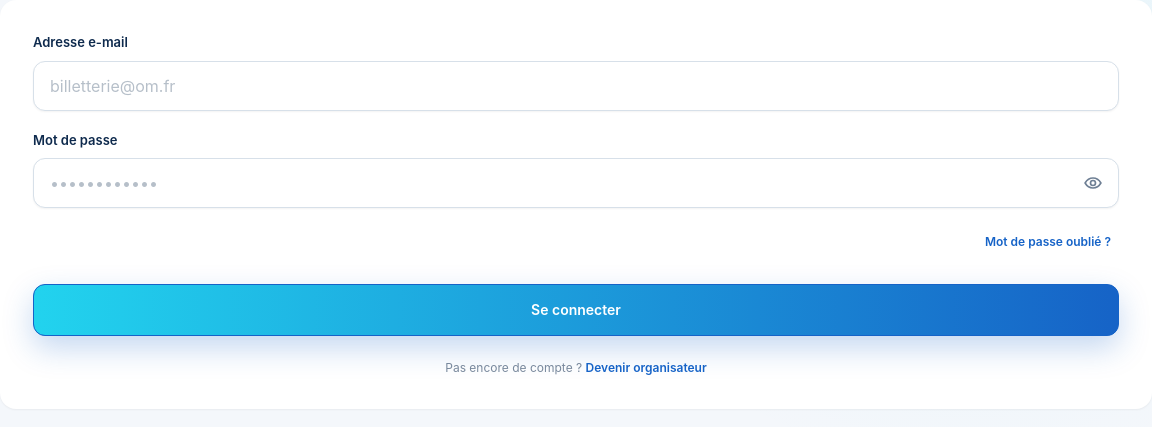
Test: LoginForm › affiche et masque le mot de passe sans perdre sa valeur
Type "Secret-FANID-2026" into the password field labelled "Mot de passe" at (576, 183), box 33,158 -> 1119,208
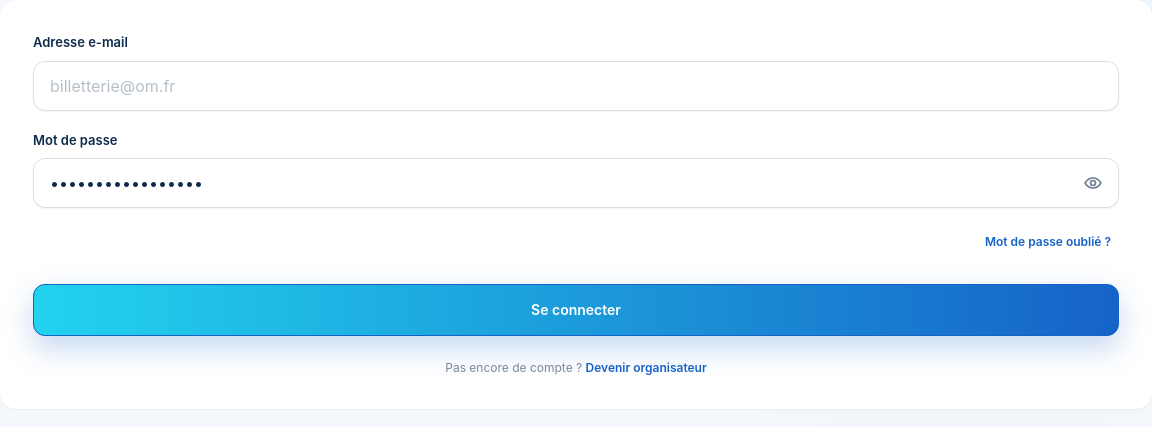
Click the button named "Afficher le mot de passe" at (1093, 183), box 1071,161 -> 1115,205
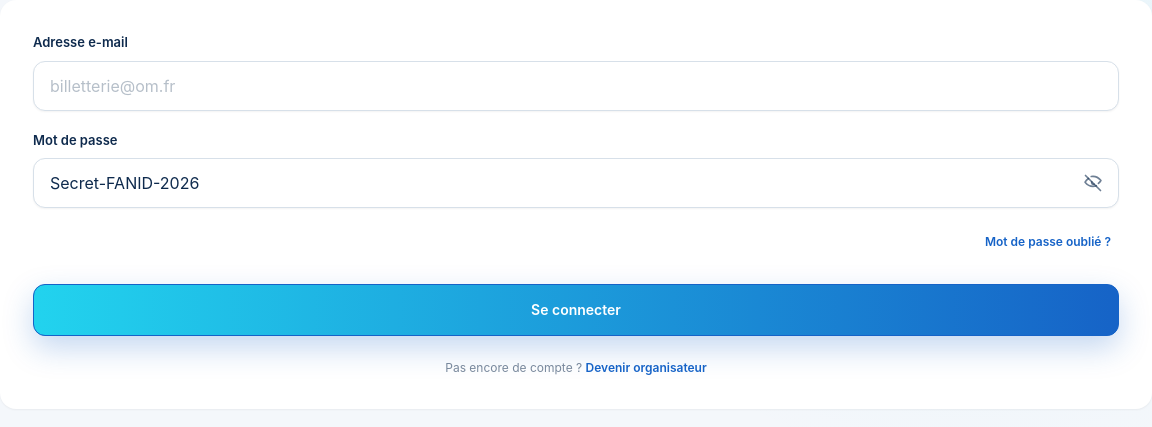
Now the field labelled "Mot de passe" shows its text, box 33,158 -> 1119,208
Click the button named "Masquer le mot de passe" at (1093, 183), box 1071,161 -> 1115,205
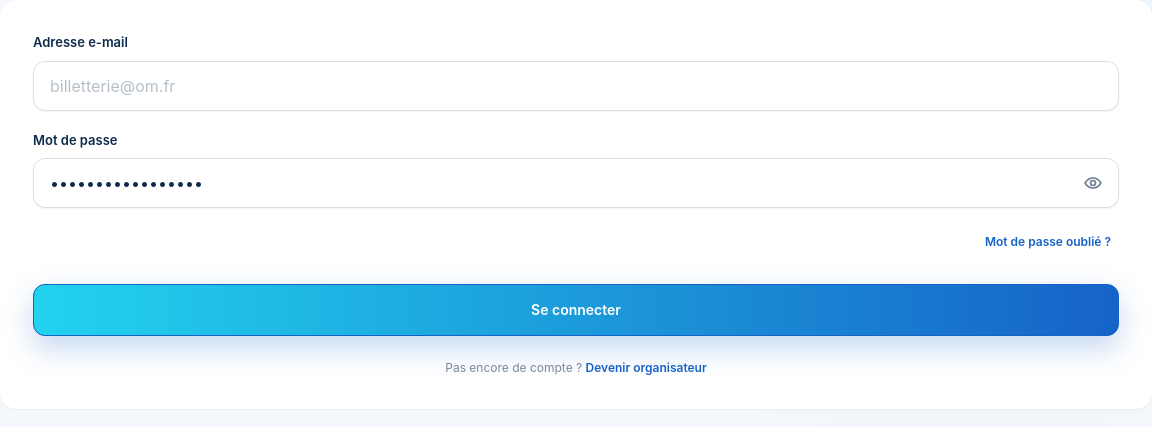
Now the password field labelled "Mot de passe" hides its text, box 33,158 -> 1119,208
